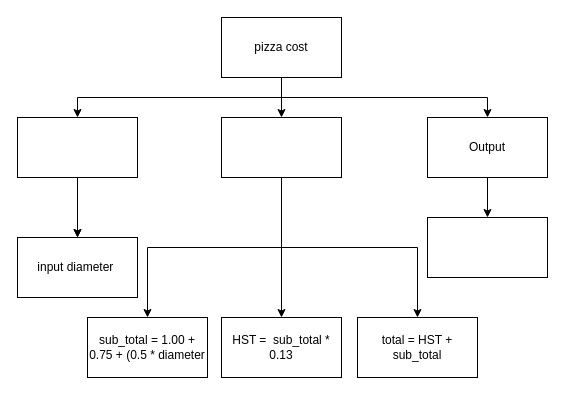
The diagram is 565 pixels wide and 395 high, and some of its shapes have lost their labels. Each missing label, with the box of its shape:
Input: (16, 116, 138, 178)
Process: (220, 116, 342, 178)
show total: (426, 216, 548, 278)
